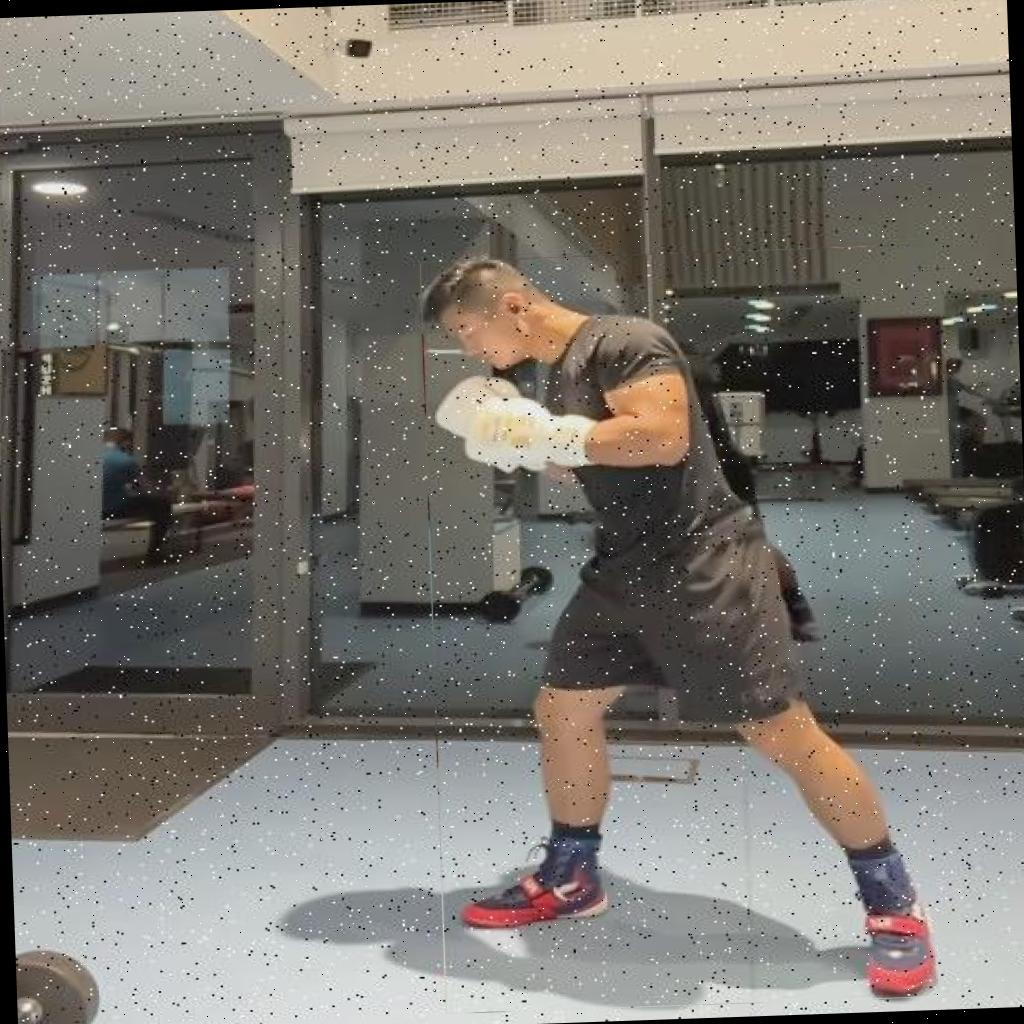no punch: (419, 245, 938, 1014)
